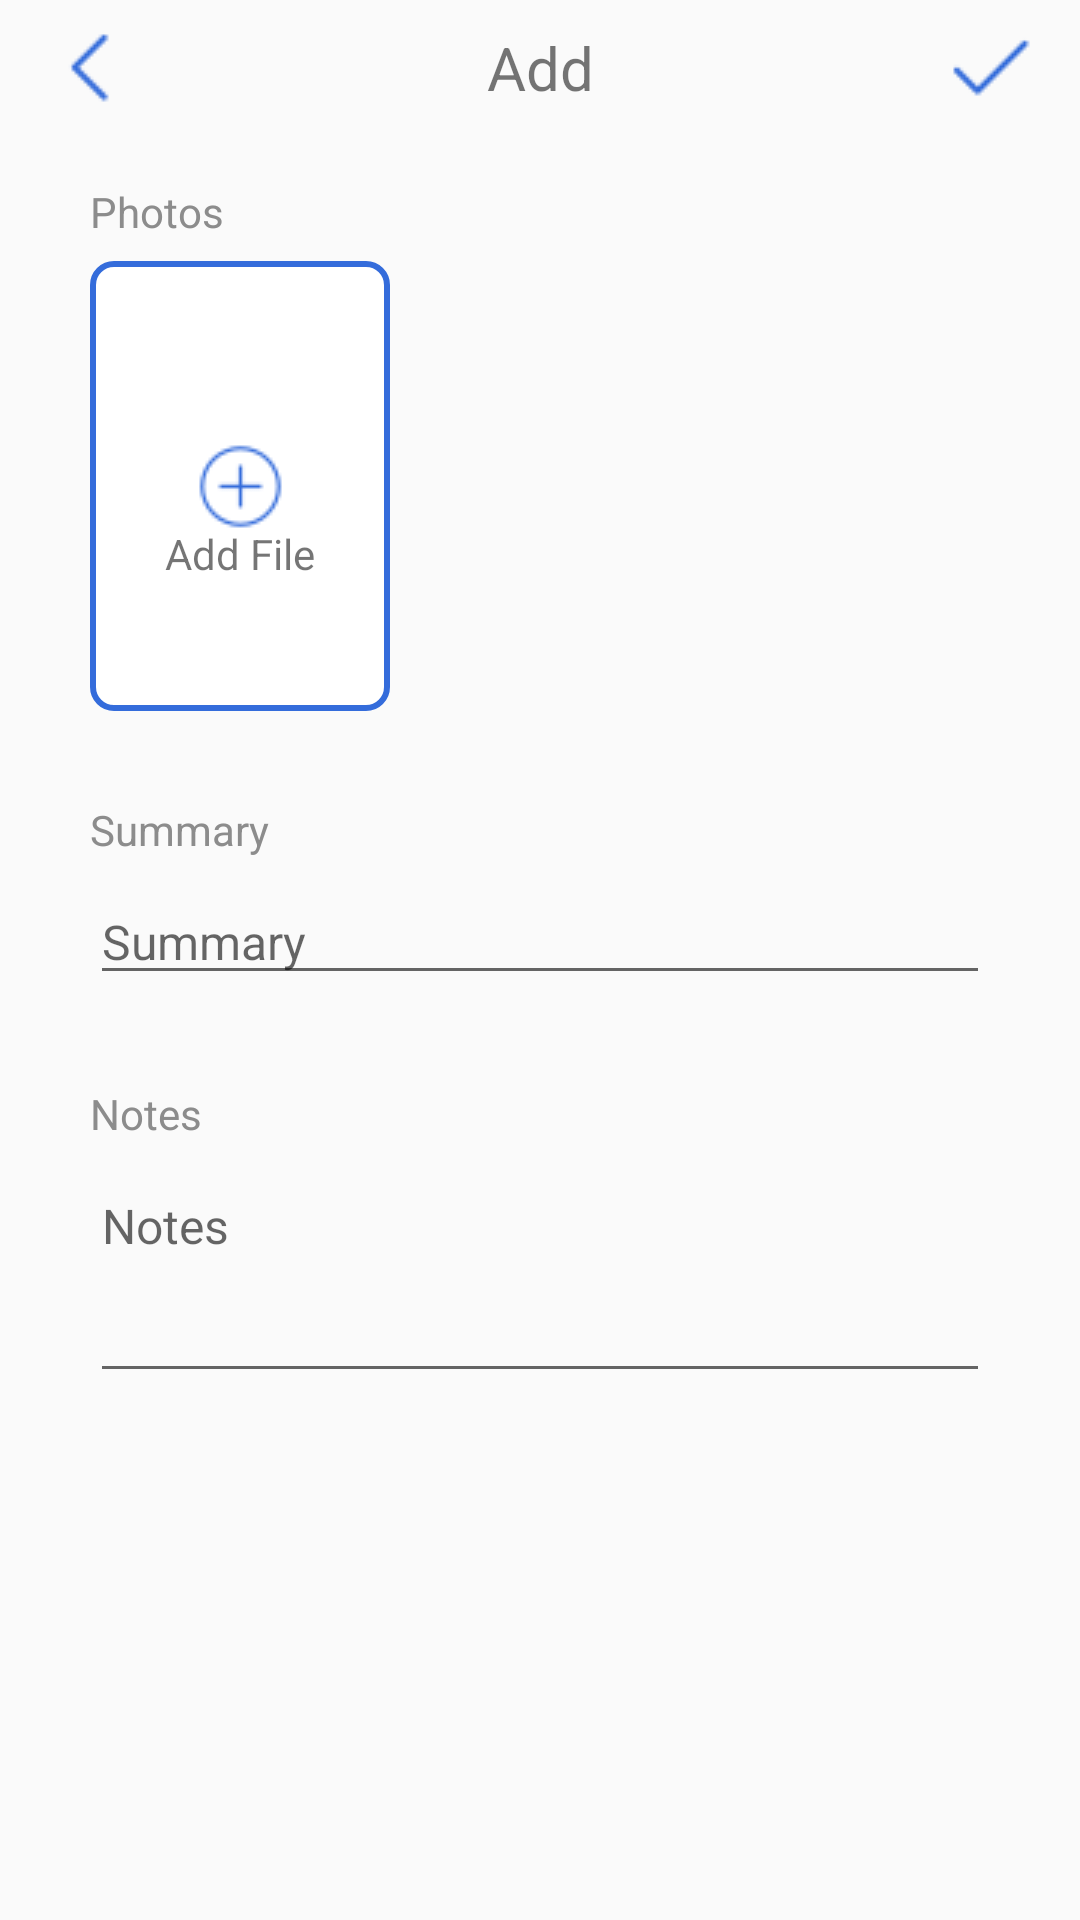

Screen size 1080x1920. Icon name, then its box in pixels as [x1, y1, x2, y2]:
Cancel: [71, 34, 109, 102]
Save: [953, 40, 1030, 96]
